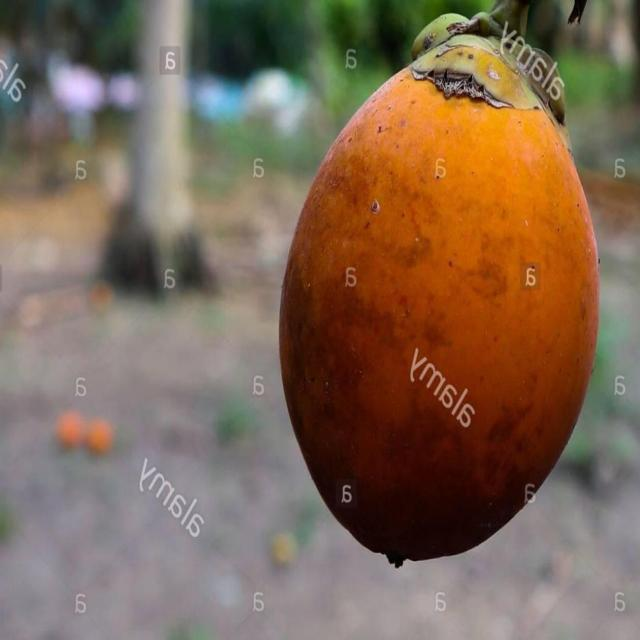good: (277, 14, 600, 570)
